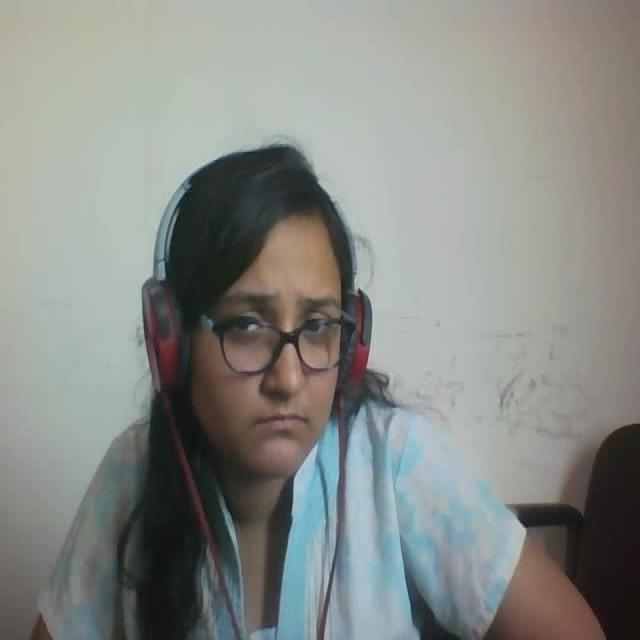Bored: (143, 142, 420, 496)
